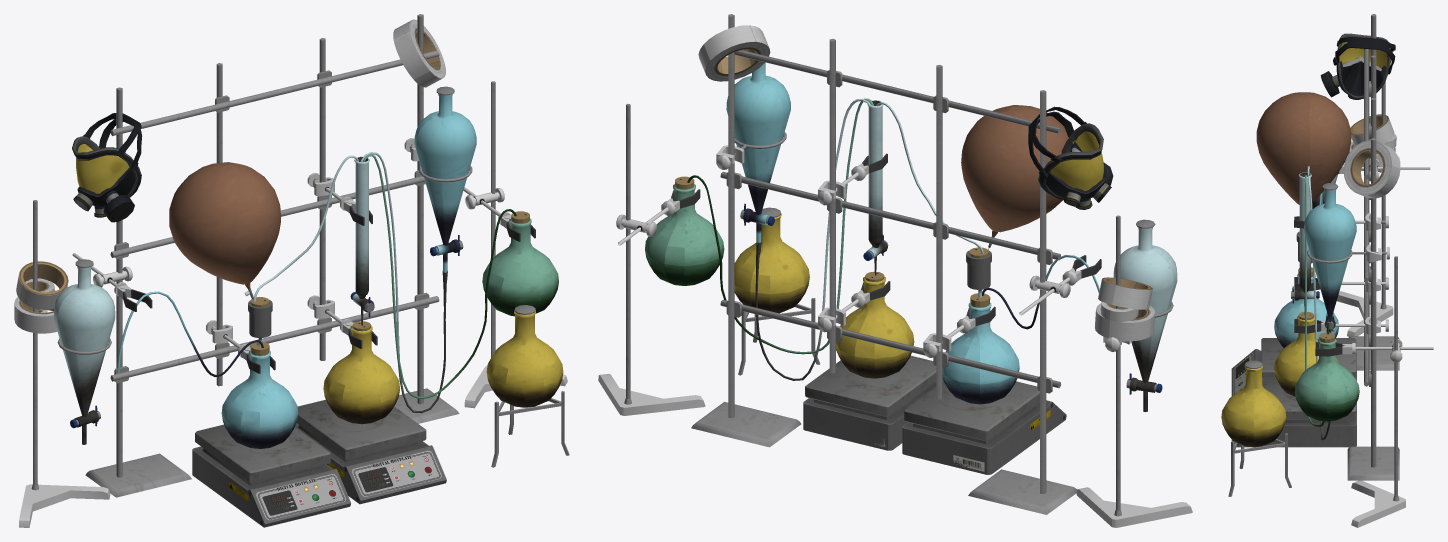
File: LSD Kit.fbx
3 views of the same model, side by side, from view 1: azimuth 30°, elevation 25°; view 2: azimuth 150°, elevation 25°; view 3: azimuth 270°, elevation 25° (orthographic). The views are drawn at different scales.
Visible parts, largest first — view 1: LSD Kit.001, LSD Kit.003, LSD Kit.007, LSD Kit.010, LSD Kit.012, LSD Kit.004, LSD Kit.005, LSD Kit.009, LSD Kit.006, LSD Kit.002, LSD Kit.011; view 2: LSD Kit.001, LSD Kit.003, LSD Kit.007, LSD Kit.012, LSD Kit.004, LSD Kit.010, LSD Kit.005, LSD Kit.006, LSD Kit.009, LSD Kit.002; view 3: LSD Kit.001, LSD Kit.003, LSD Kit.010, LSD Kit.004, LSD Kit.005, LSD Kit.007, LSD Kit.006, LSD Kit.012, LSD Kit.002, LSD Kit.009.
Part boxes in pixels (bbox=[...]): LSD Kit.001: bbox=[54, 94, 563, 448]; LSD Kit.003: bbox=[31, 14, 569, 497]; LSD Kit.007: bbox=[192, 299, 446, 527]; LSD Kit.010: bbox=[169, 162, 280, 288]; LSD Kit.012: bbox=[195, 399, 426, 482]; LSD Kit.004: bbox=[19, 138, 567, 527]; LSD Kit.005: bbox=[14, 19, 445, 333]; LSD Kit.009: bbox=[117, 152, 516, 413]; LSD Kit.006: bbox=[72, 113, 142, 222]; LSD Kit.002: bbox=[70, 86, 535, 428]; LSD Kit.011: bbox=[229, 452, 440, 524]; LSD Kit.001: bbox=[645, 62, 1177, 411]; LSD Kit.003: bbox=[624, 14, 1173, 516]; LSD Kit.007: bbox=[803, 250, 1066, 474]; LSD Kit.012: bbox=[805, 355, 1039, 441]; LSD Kit.004: bbox=[598, 145, 1192, 527]; LSD Kit.010: bbox=[961, 105, 1068, 236]; LSD Kit.005: bbox=[698, 25, 1155, 341]; LSD Kit.006: bbox=[1028, 106, 1113, 209]; LSD Kit.009: bbox=[687, 98, 1101, 380]; LSD Kit.002: bbox=[671, 153, 1162, 394]; LSD Kit.001: bbox=[1221, 42, 1387, 447]; LSD Kit.003: bbox=[1228, 14, 1399, 501]; LSD Kit.010: bbox=[1256, 92, 1351, 204]; LSD Kit.004: bbox=[1321, 156, 1433, 527]; LSD Kit.005: bbox=[1343, 114, 1400, 198]; LSD Kit.007: bbox=[1231, 232, 1356, 447]; LSD Kit.006: bbox=[1320, 33, 1395, 99]; LSD Kit.012: bbox=[1261, 338, 1356, 419]; LSD Kit.002: bbox=[1244, 171, 1342, 368]; LSD Kit.009: bbox=[1304, 166, 1330, 440].
Size of the model in its own units: 192 by 129 by 74.65.
